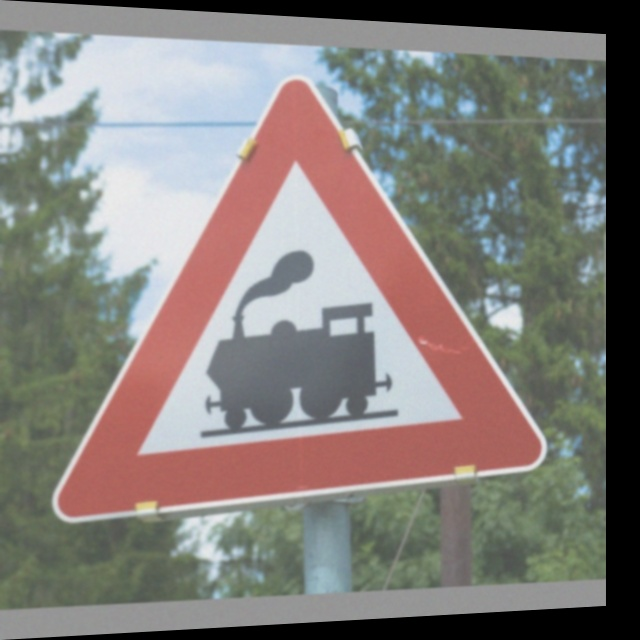Unguarded_Level_Crossing: (72, 69, 536, 509)
